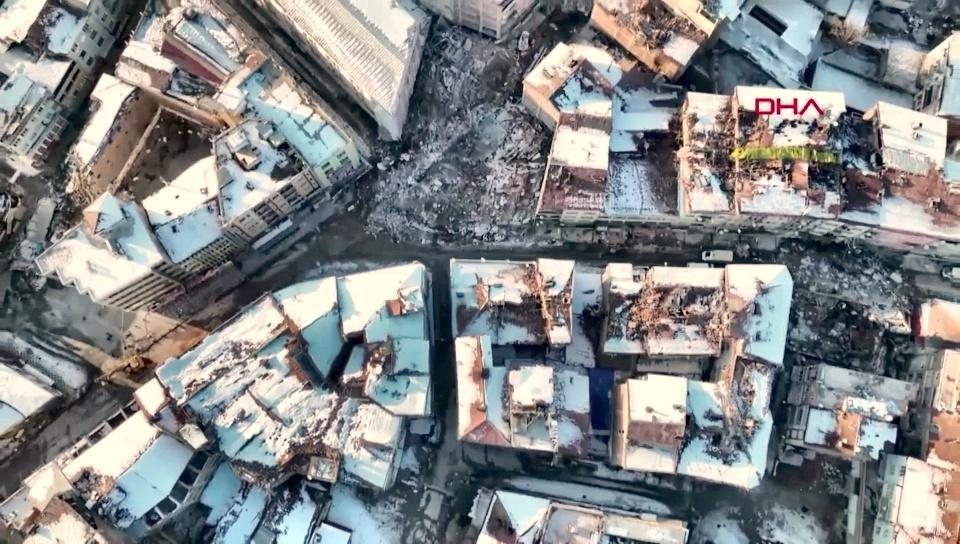kapali: (335, 19, 561, 237), (753, 233, 938, 299)
